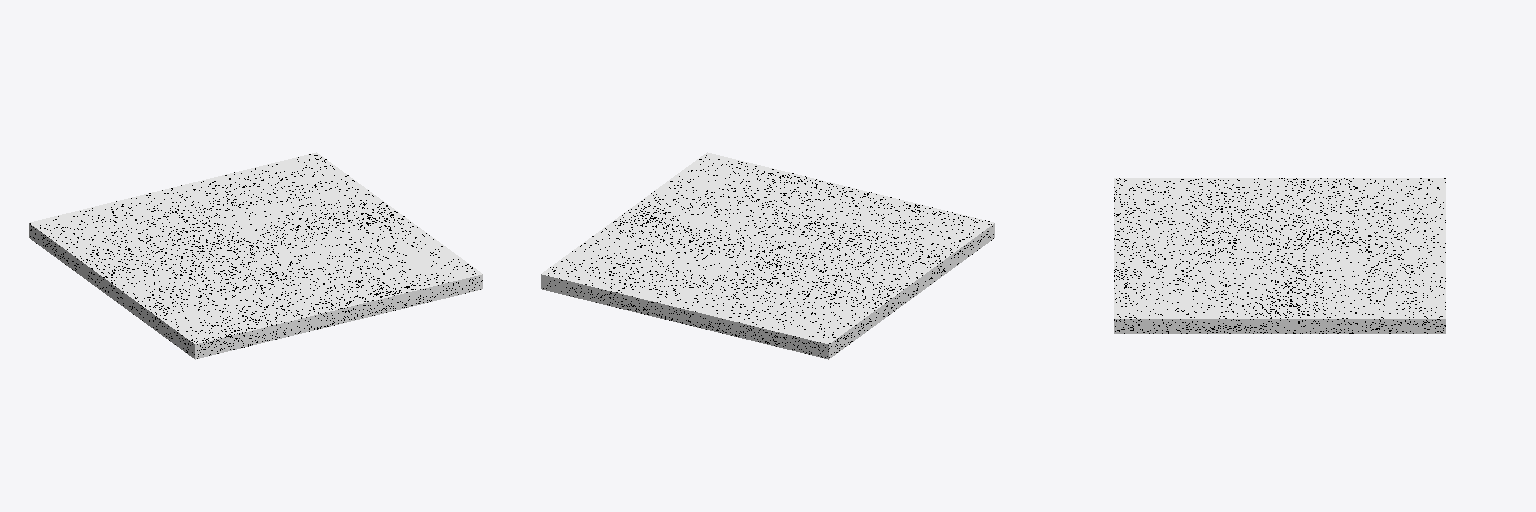
3 renders of one model, left to right at view 1: azimuth 30°, elevation 25°; view 2: azimuth 150°, elevation 25°; view 3: azimuth 270°, elevation 25°, orthographic.
Parts seen in each view (by area): view 1: Podloga.NR10_Cube.020; view 2: Podloga.NR10_Cube.020; view 3: Podloga.NR10_Cube.020.
Part boxes in pixels (left/top/right/bottom): Podloga.NR10_Cube.020: left=29, top=152, right=482, bottom=359; Podloga.NR10_Cube.020: left=541, top=152, right=994, bottom=359; Podloga.NR10_Cube.020: left=1114, top=178, right=1445, bottom=333.
Size of the model in its own units: 10 by 0.5 by 10.
1 materials, 1 textured.